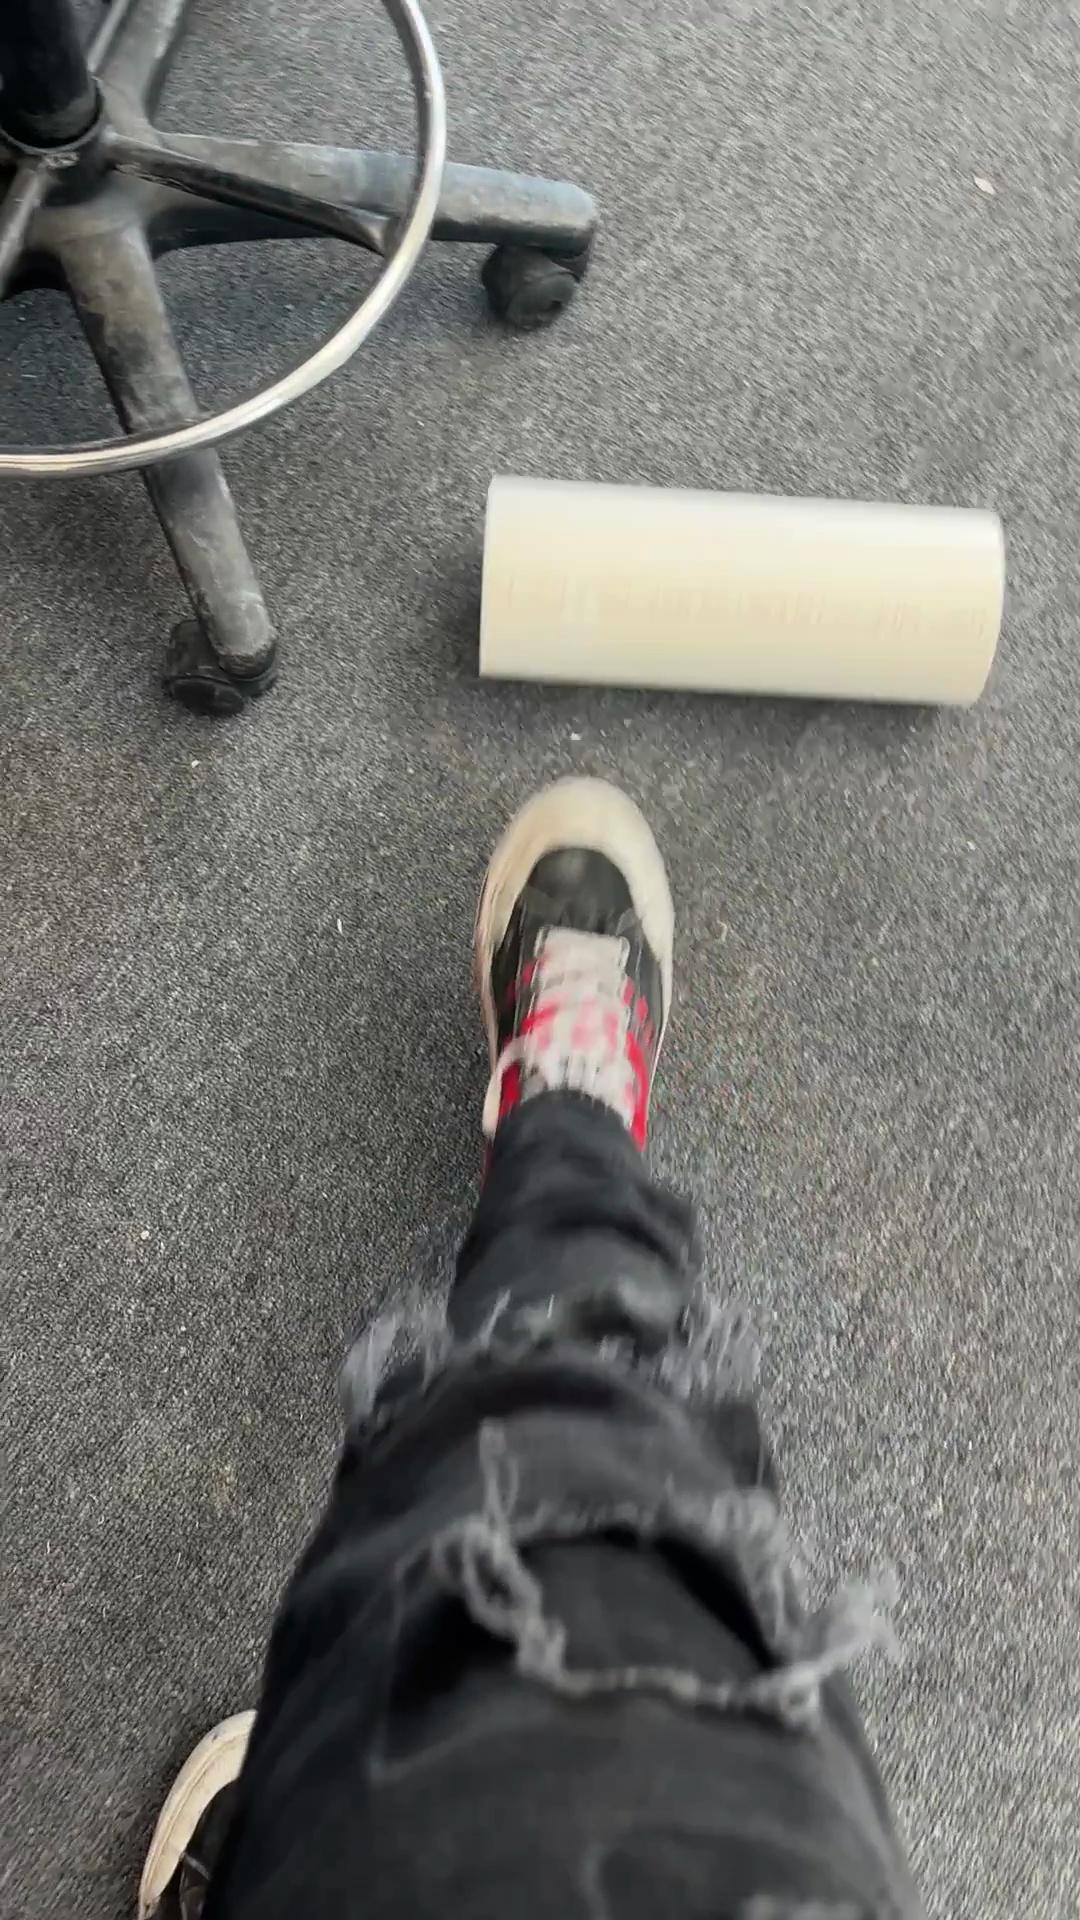CORAL: (475, 469, 1007, 709)
